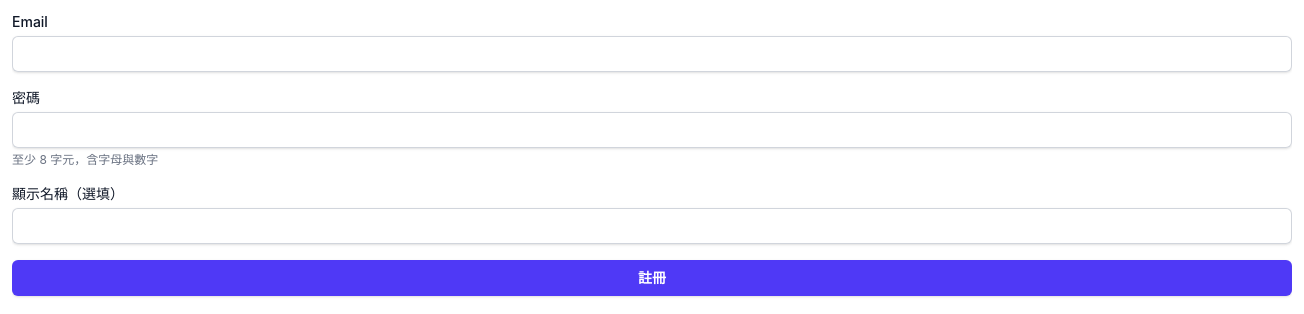
it: RegisterForm › shows client-side validation when password lacks digit
Type "a@b.com" into the field labelled "Email" at (652, 54), box [12, 36, 1292, 72]
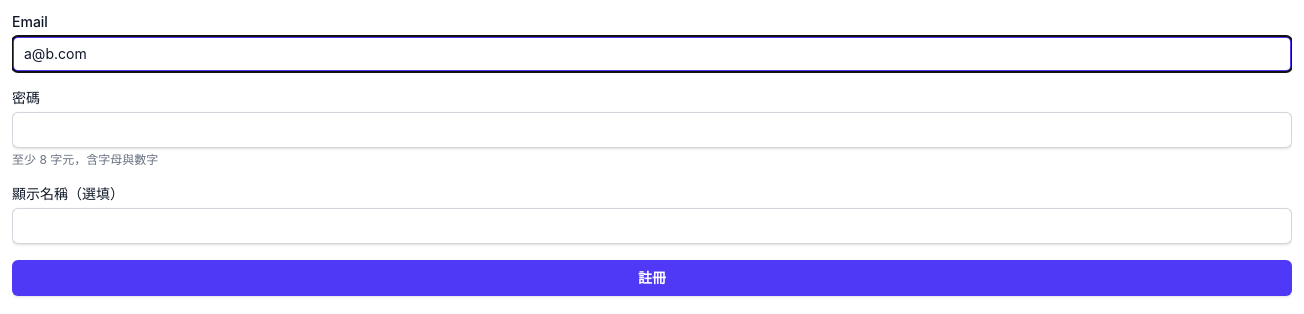
Type "onlyletters" into the password field labelled "密碼" at (652, 130), box [12, 112, 1292, 148]
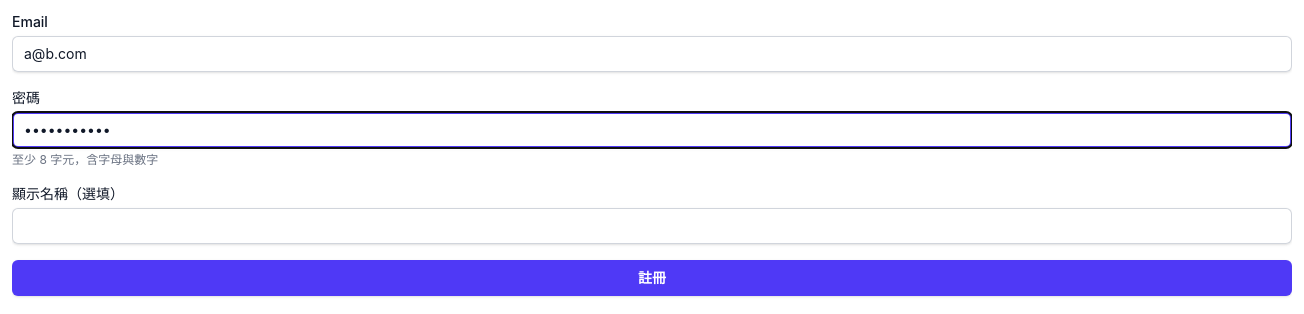
Click the button "註冊" at (652, 278), box [12, 260, 1292, 296]
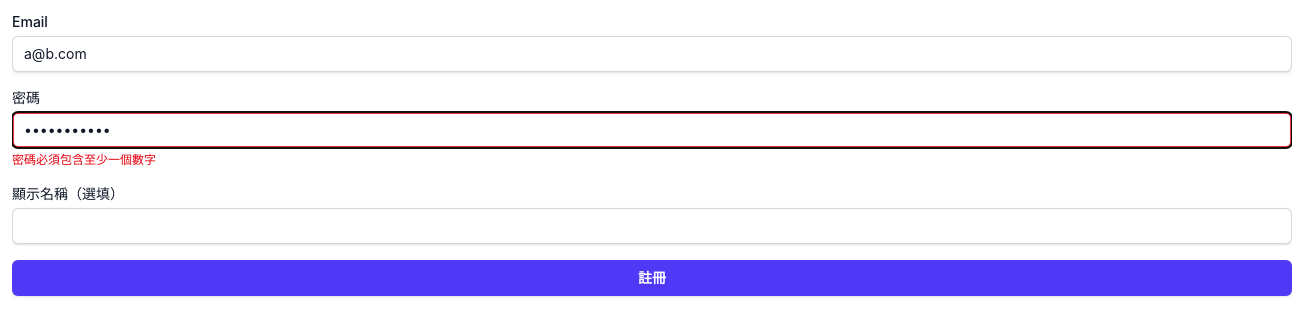
Now the text "密碼必須包含至少一個數字" is shown, box [12, 152, 156, 167]
